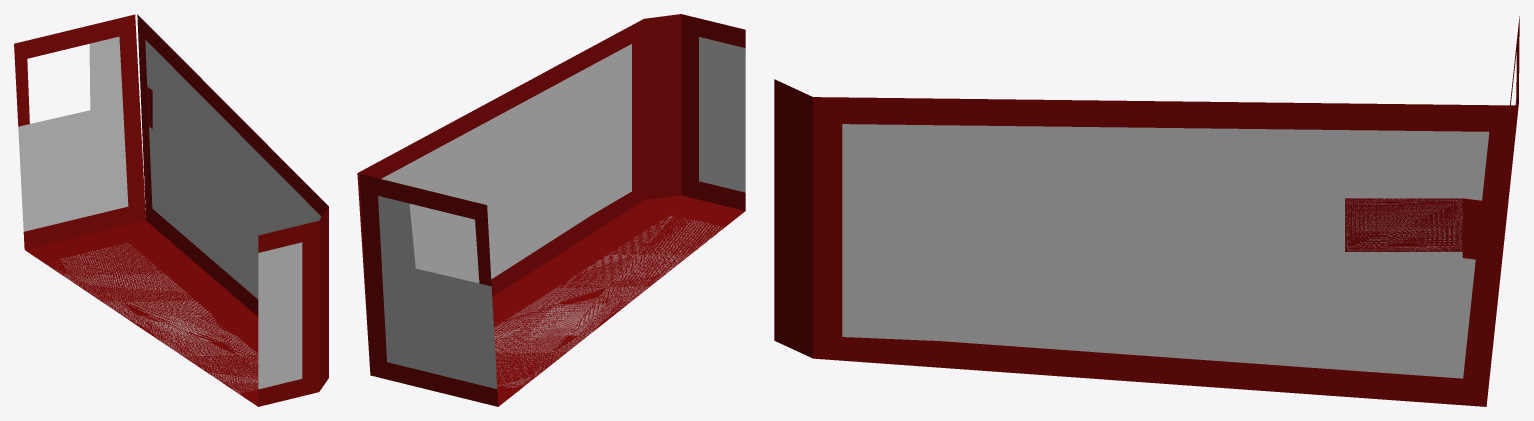
Rendered from original-44.obj.
3 views of the same model, side by side, from view 1: azimuth 30°, elevation 25°; view 2: azimuth 150°, elevation 25°; view 3: azimuth 270°, elevation 25° (orthographic). The views are drawn at different scales.
Parts seen in each view (by area): view 1: Cart_Basket1/mesh65/mesh65-geometry#mesh65-geometry; view 2: Cart_Basket1/mesh65/mesh65-geometry#mesh65-geometry; view 3: Cart_Basket1/mesh65/mesh65-geometry#mesh65-geometry.
Boxes of the visible parts, x1,y1,x2,y2 form: Cart_Basket1/mesh65/mesh65-geometry#mesh65-geometry: [14, 14, 328, 406]; Cart_Basket1/mesh65/mesh65-geometry#mesh65-geometry: [357, 14, 745, 406]; Cart_Basket1/mesh65/mesh65-geometry#mesh65-geometry: [774, 16, 1519, 406].
Size of the model in its own units: 0.3431 by 0.5292 by 1.18.
